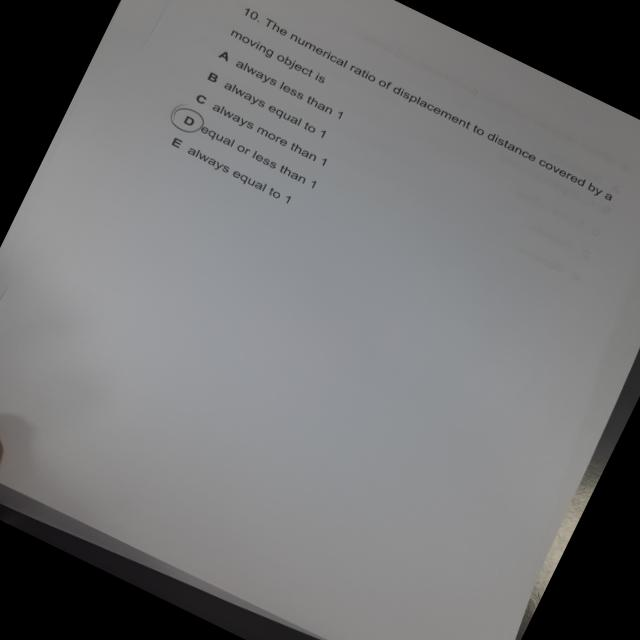D: (163, 100, 217, 144)
